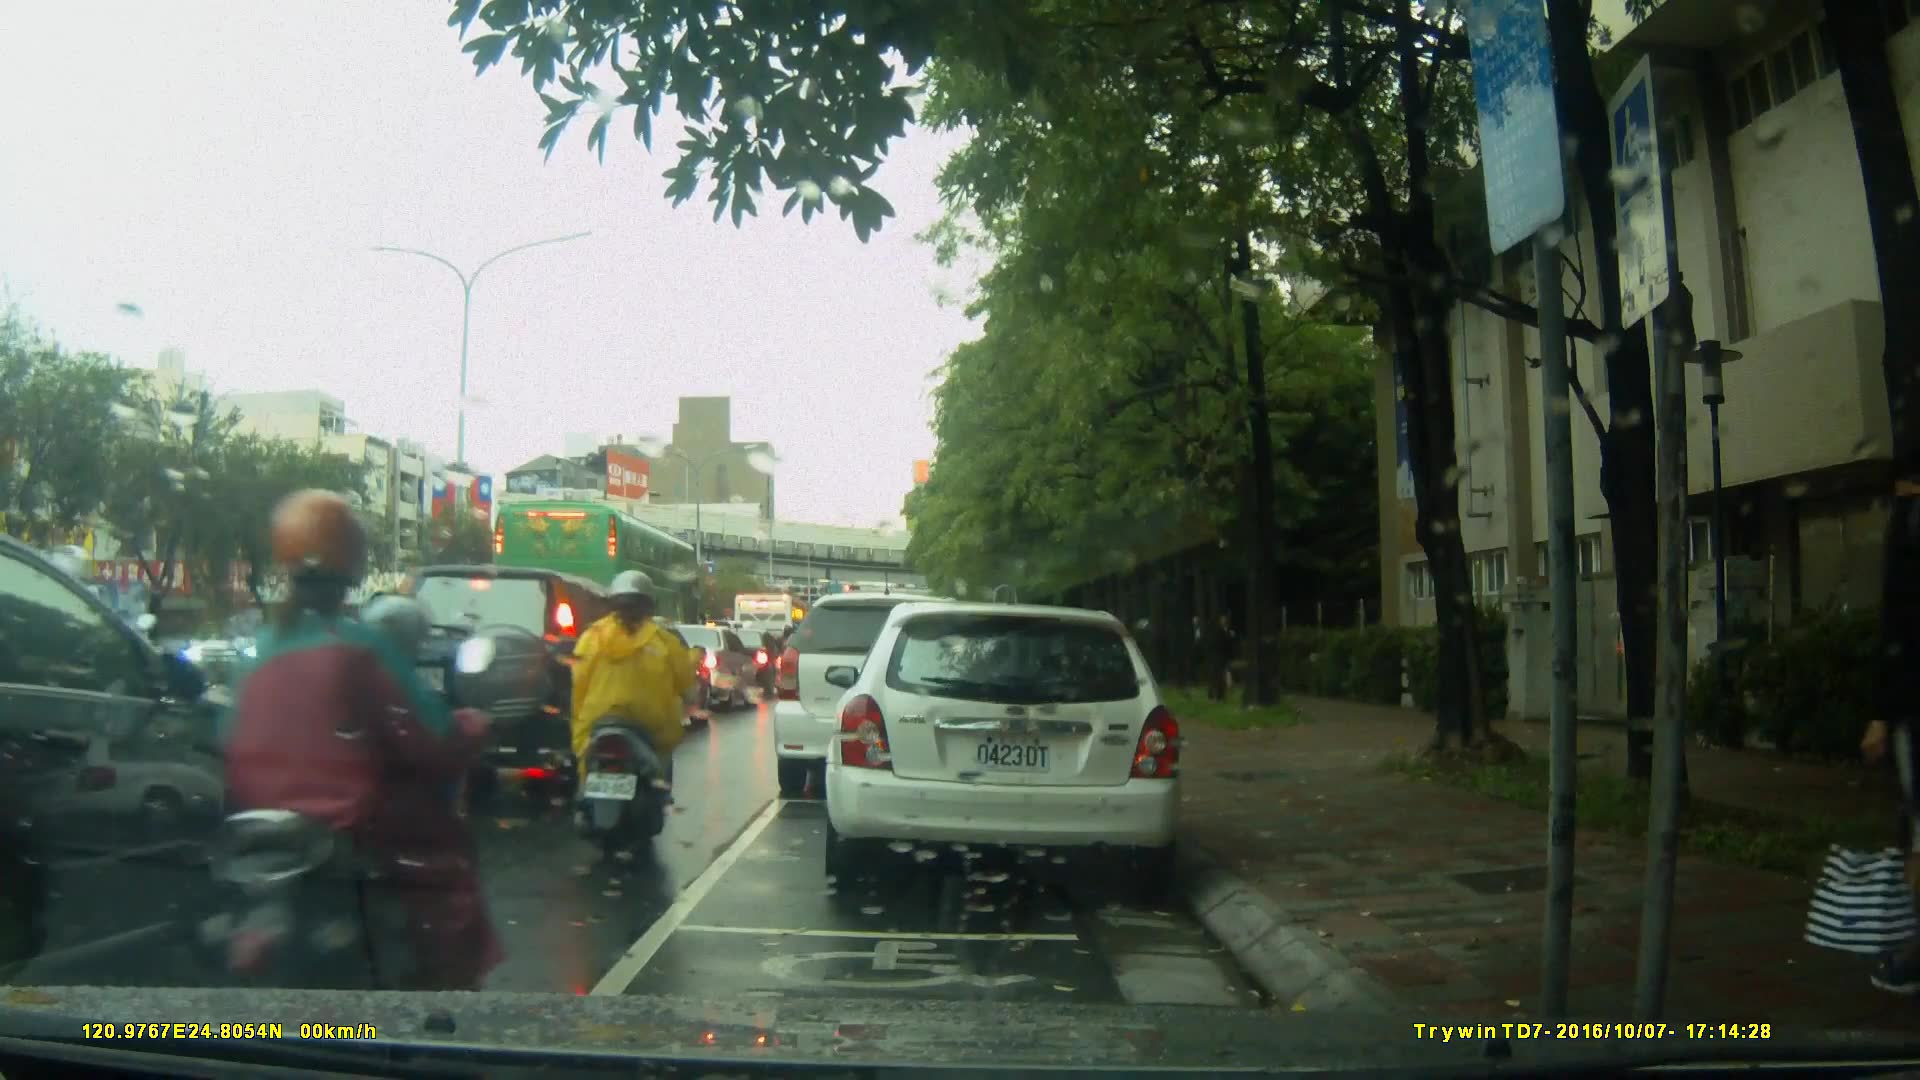pedestrian: (1806, 449, 1920, 1004)
rider: (177, 476, 522, 1064), (569, 566, 699, 871)
vehicle: (1, 520, 279, 988), (831, 592, 1196, 897), (376, 562, 660, 808), (770, 592, 999, 801), (492, 497, 705, 659), (639, 624, 761, 712)
